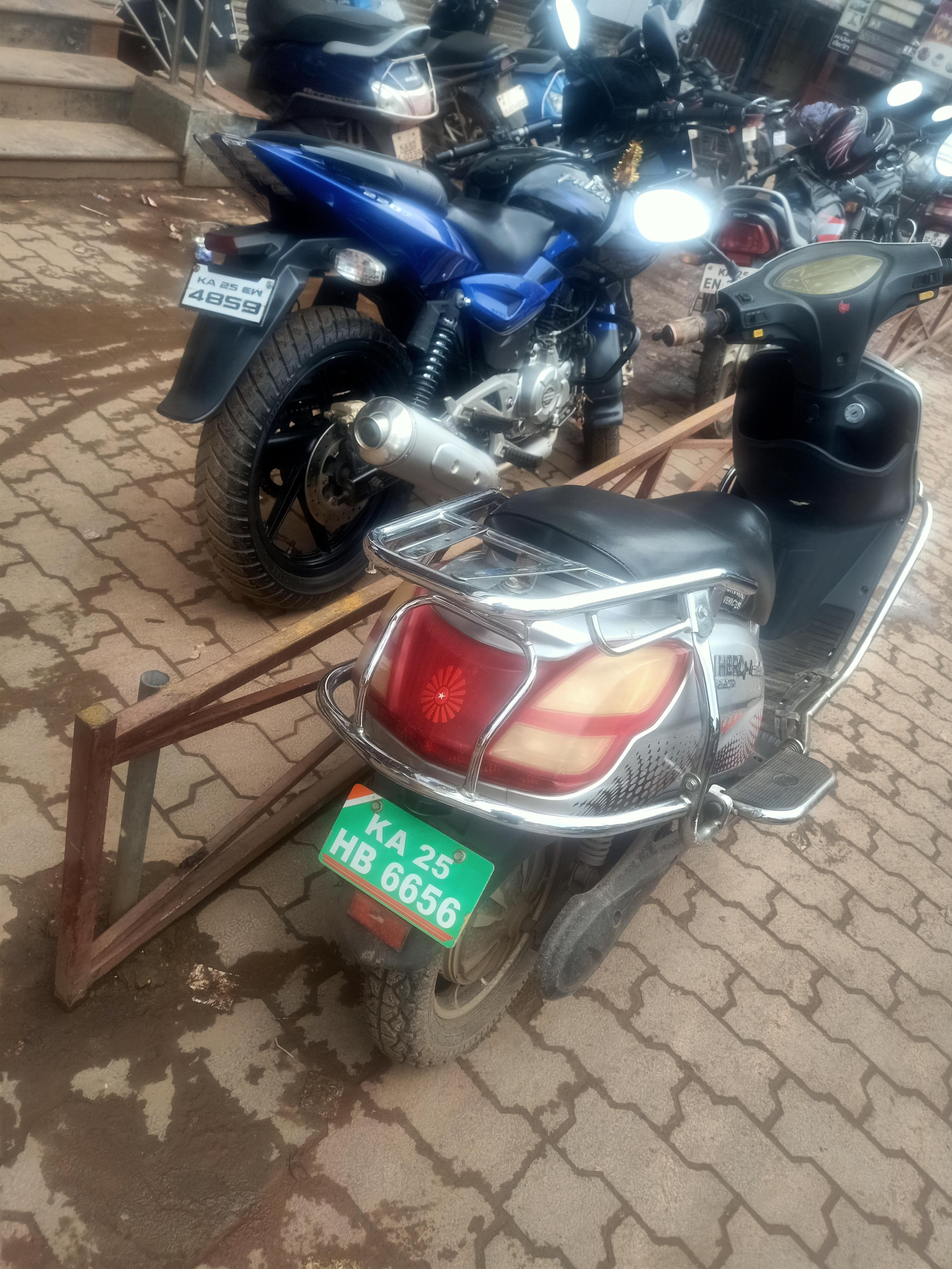green license plate: (312, 774, 494, 950)
